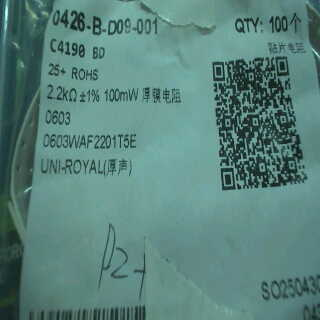2.2kR: (44, 76, 79, 111)
